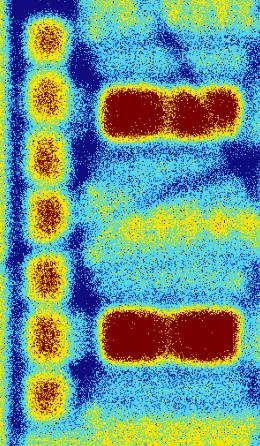Pad 1: (169, 305, 243, 367), (98, 305, 168, 368), (167, 87, 241, 141), (101, 87, 167, 141)
Pad 2: (25, 130, 69, 187), (26, 70, 70, 124), (26, 189, 69, 244), (26, 310, 68, 364), (26, 371, 69, 421), (25, 17, 70, 64), (26, 254, 67, 304)
